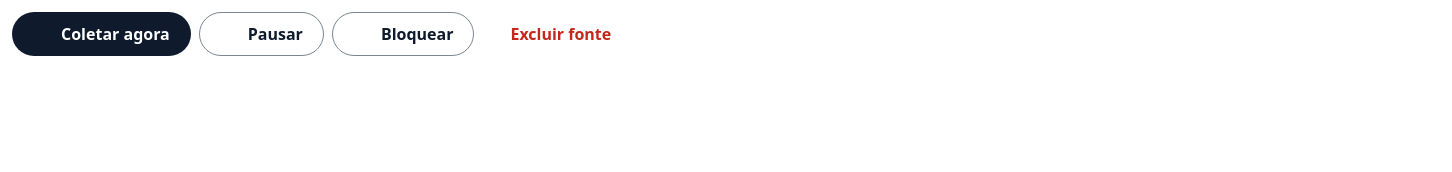
Test: SourceHeaderActions › fonte ativa: Coletar agora, Pausar, Bloquear e Excluir; Pausar envia id, versão e ação
Click the button "Pausar" at (261, 34), box [199, 12, 324, 56]
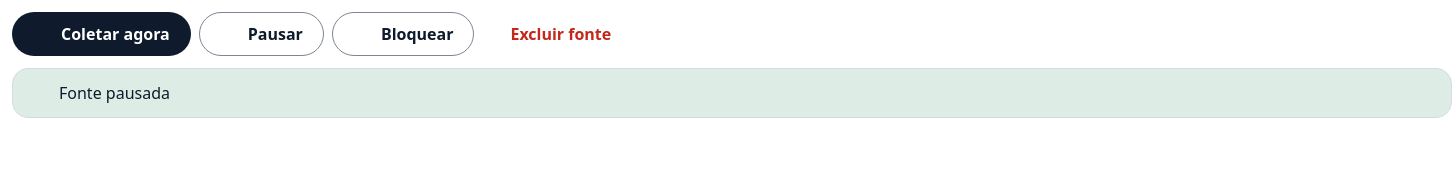
Now the message reads "Fonte pausada", box [59, 82, 170, 104]
